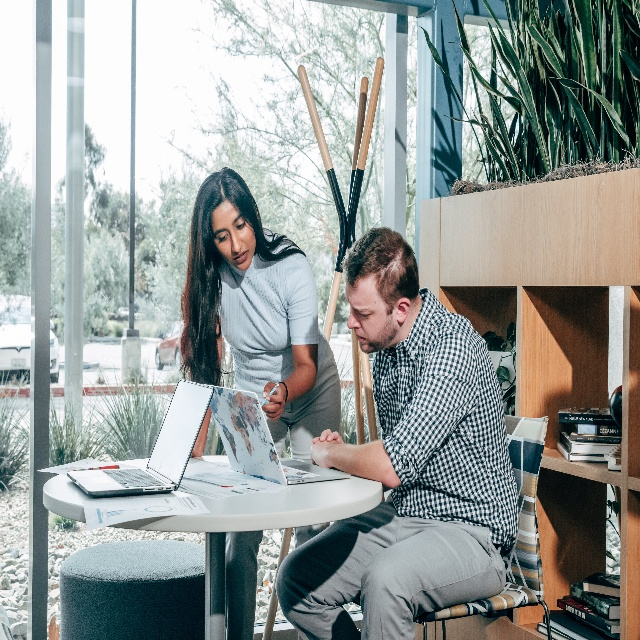Sin_guantes: (310, 437, 343, 471), (261, 382, 286, 422), (312, 428, 344, 446)
